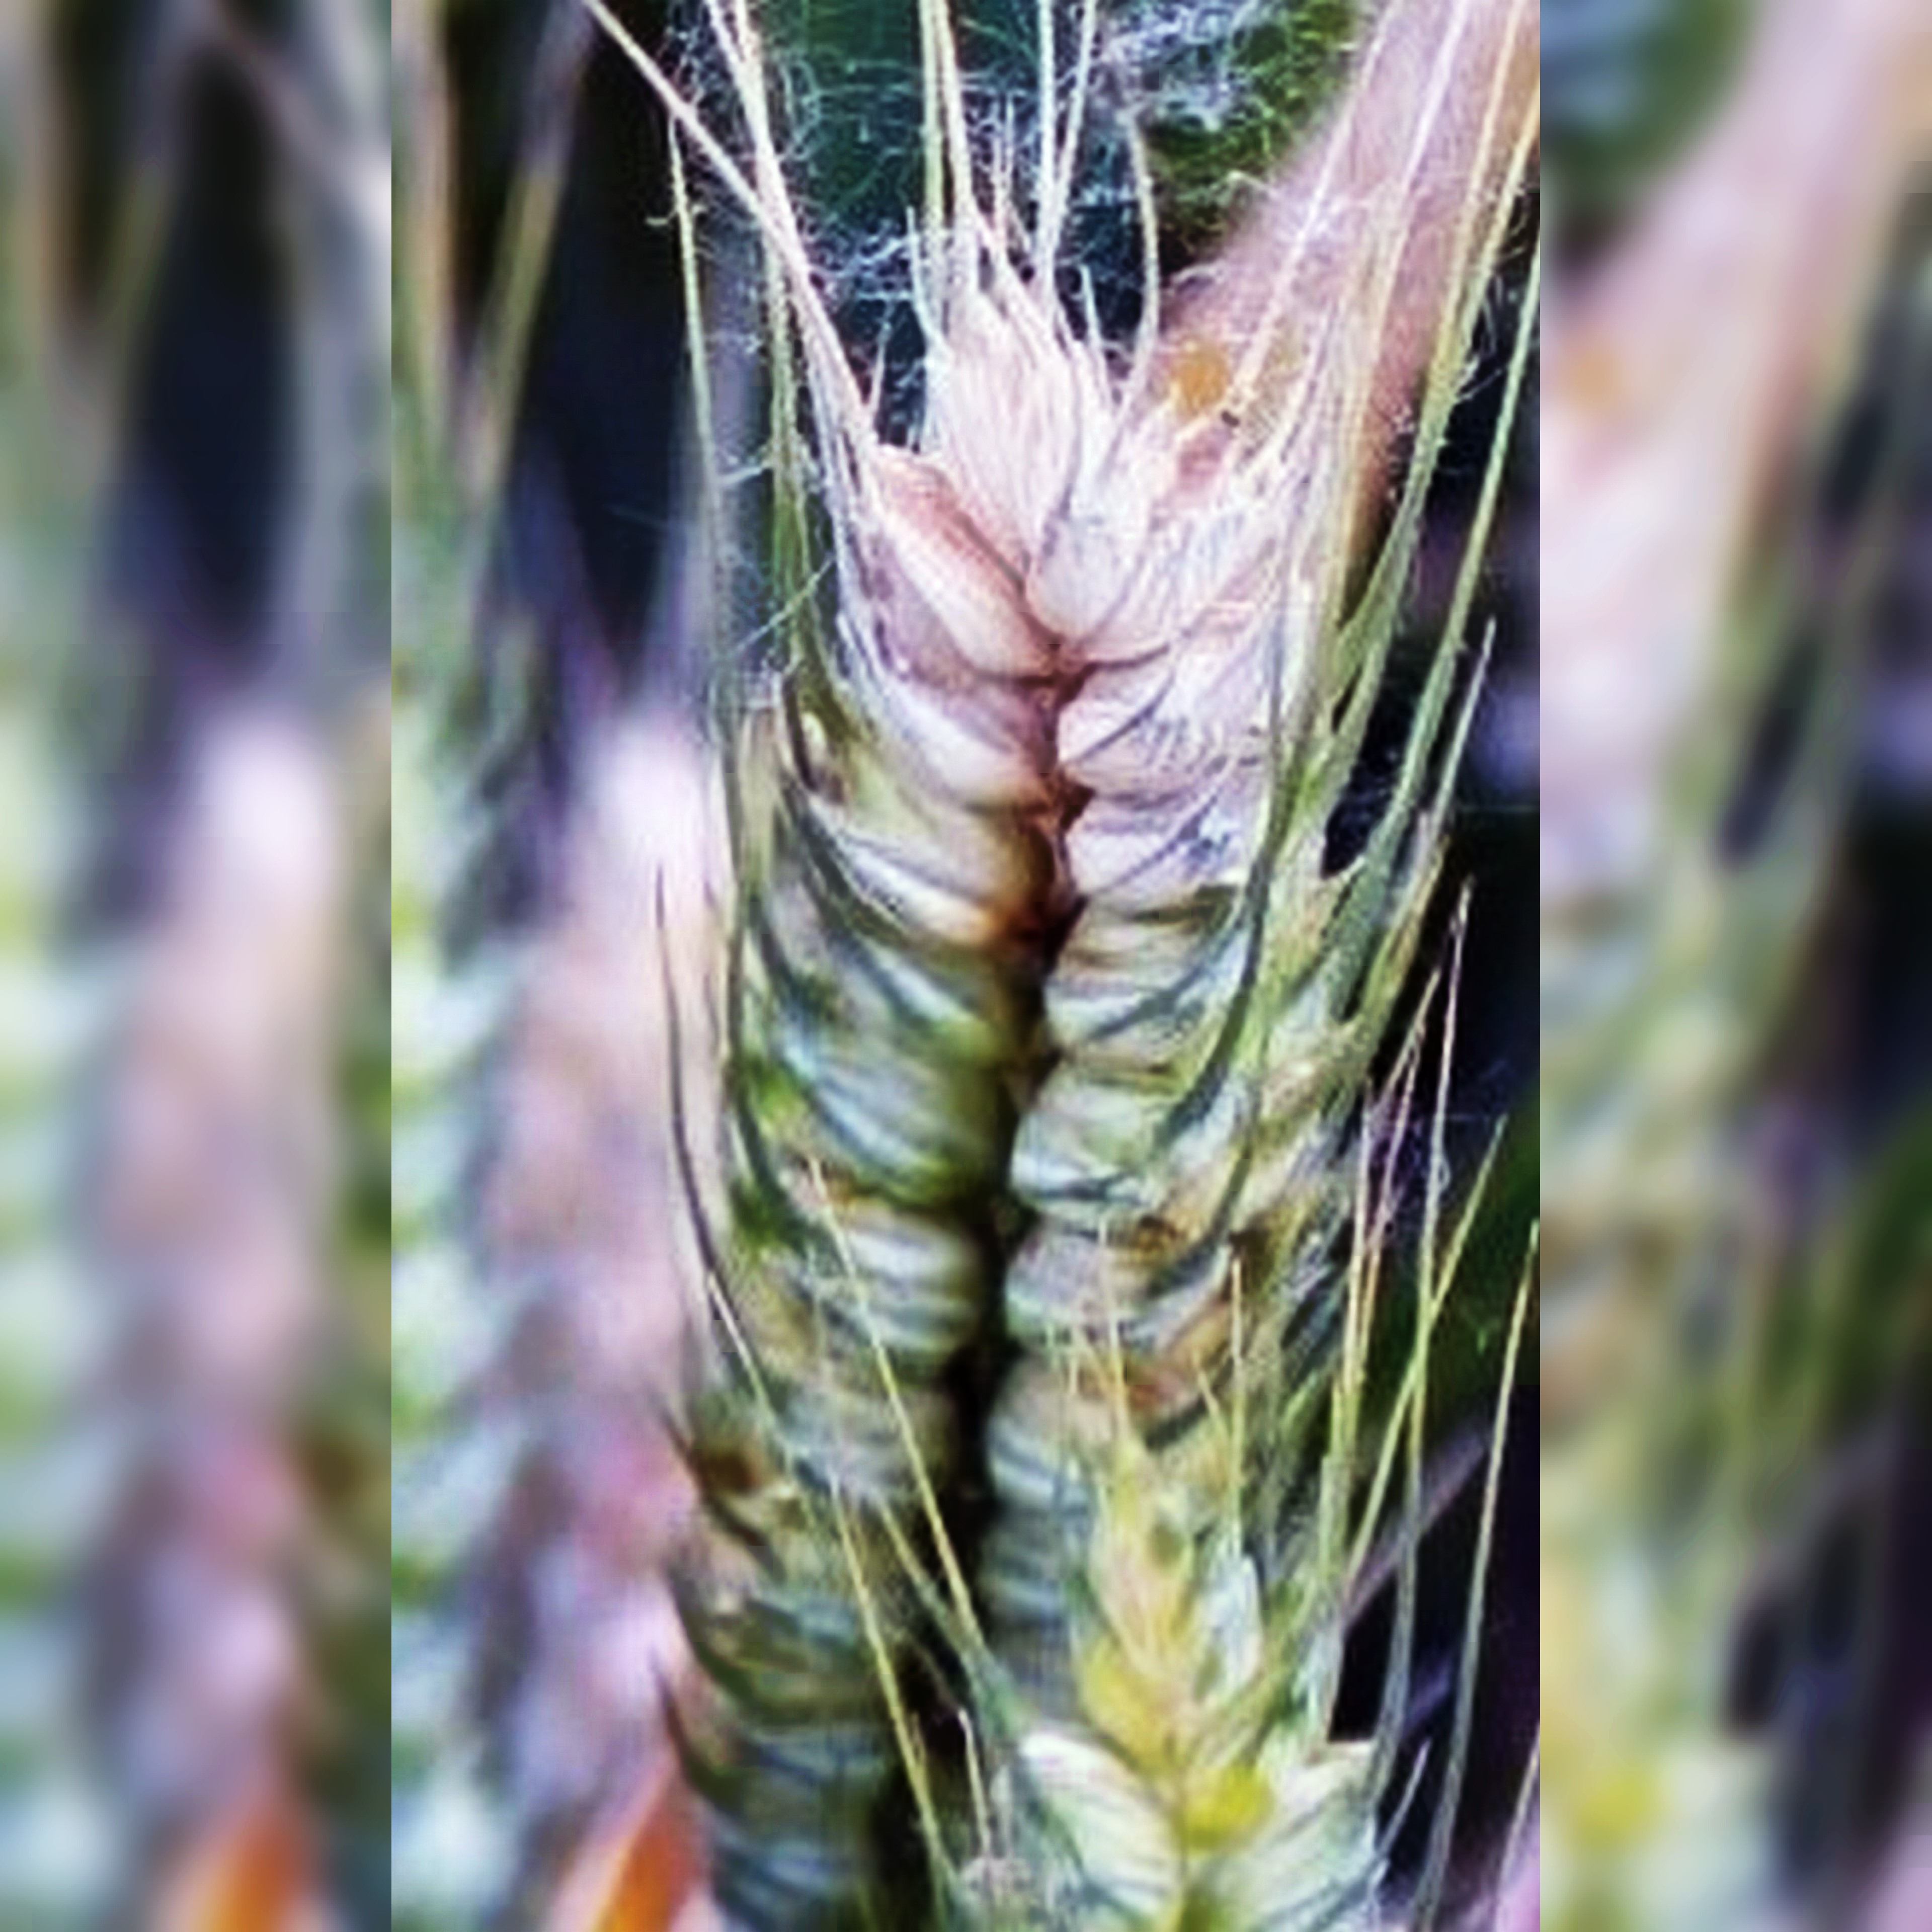Wheat scab: (580, 230, 1407, 1895)
